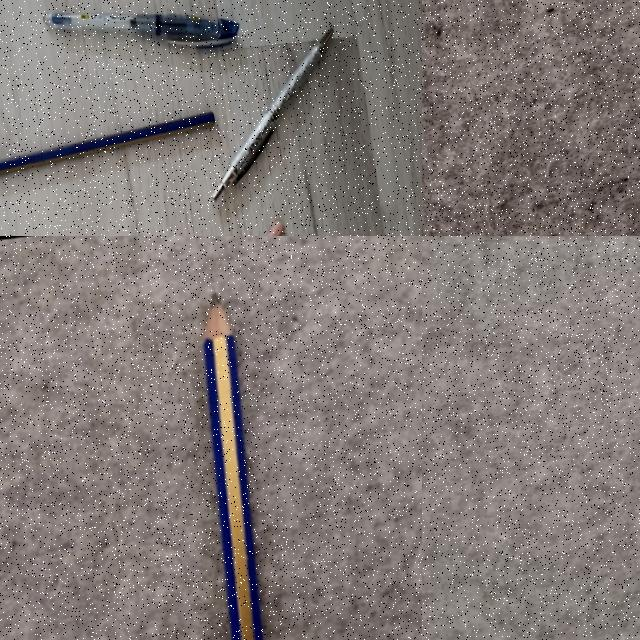pen: (42, 0, 243, 65)
pencil: (203, 296, 261, 639), (0, 109, 221, 177)
signature pen: (200, 30, 352, 199)
